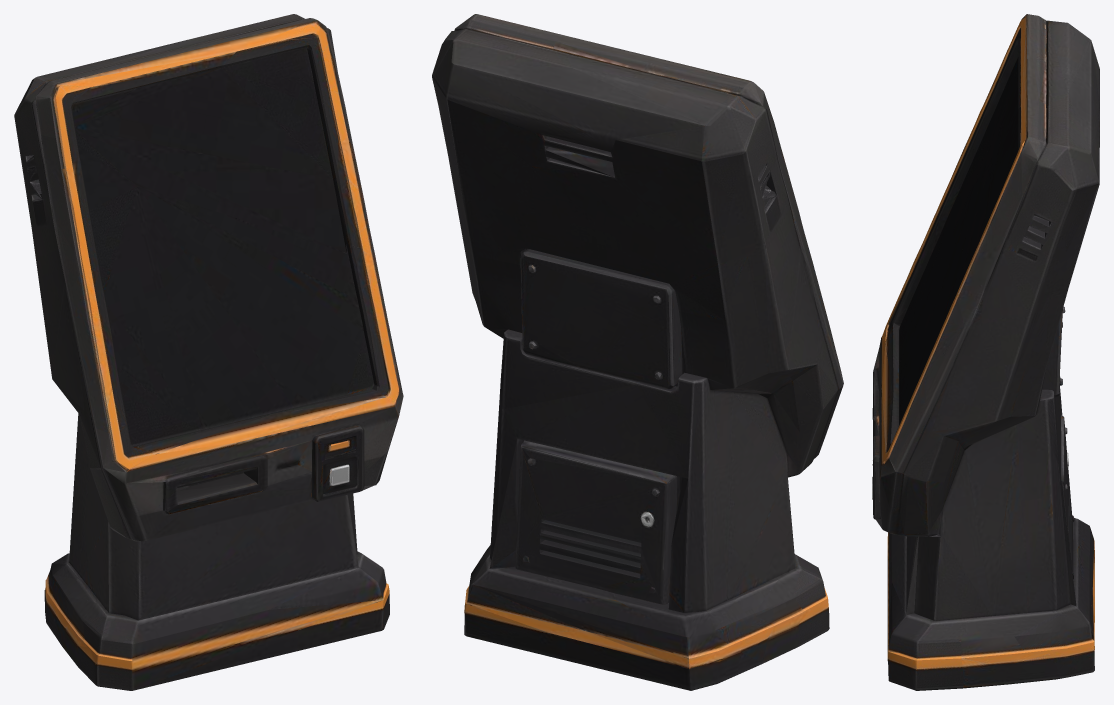
Rendered from terminal.glb.
3 views of the same model, side by side, from view 1: azimuth 30°, elevation 25°; view 2: azimuth 150°, elevation 25°; view 3: azimuth 270°, elevation 25° (orthographic). The views are drawn at different scales.
Bounding box in the file's own units: 1.07 × 1.9 × 0.7189.
Materials: 1 (1 with a texture image).
